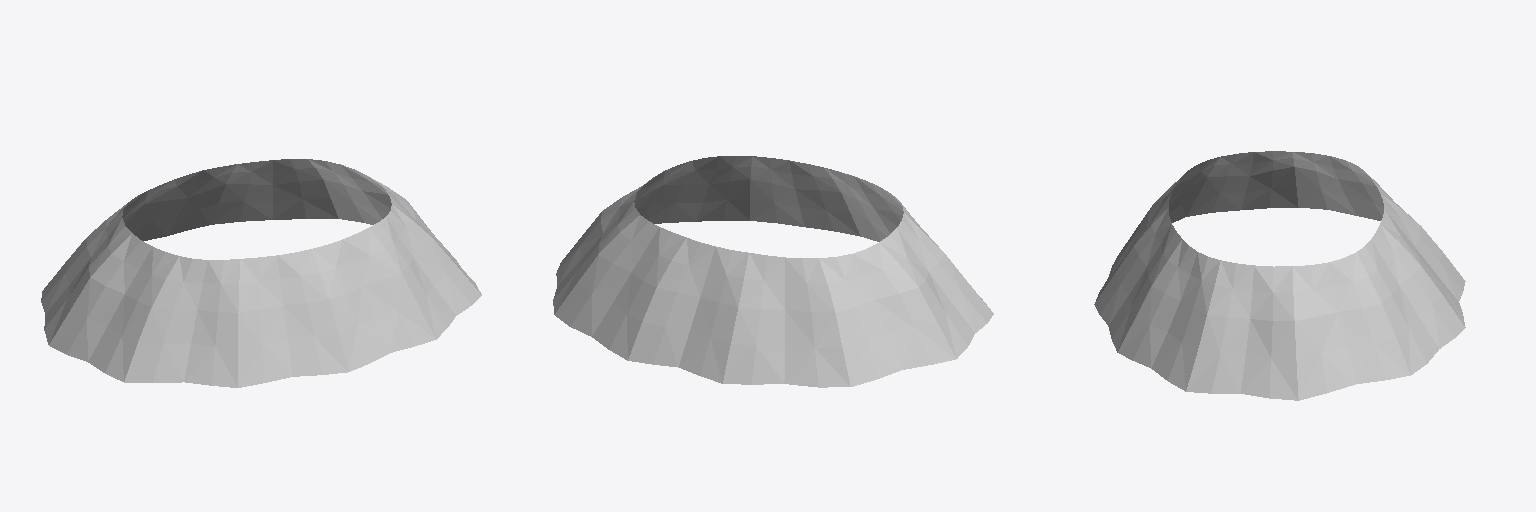
File: 10_peplumfull.obj
3 views of the same model, side by side, from view 1: azimuth 30°, elevation 25°; view 2: azimuth 150°, elevation 25°; view 3: azimuth 270°, elevation 25° (orthographic).
Visible parts, largest first — view 1: peplumfront, peplumback; view 2: peplumback, peplumfront; view 3: peplumfront, peplumback.
Part boxes in pixels (bbox=[...]): peplumfront: bbox=[49, 176, 481, 387]; peplumback: bbox=[41, 159, 391, 344]; peplumback: bbox=[553, 185, 955, 387]; peplumfront: bbox=[634, 156, 993, 358]; peplumfront: bbox=[1094, 151, 1298, 400]; peplumback: bbox=[1293, 152, 1465, 400].
Bounding box in the file's own units: 17.85 × 4.18 × 14.48.